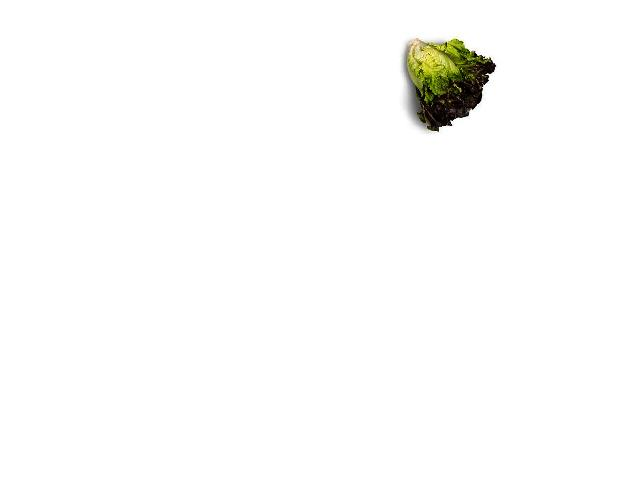lettuce: (406, 35, 493, 137)
